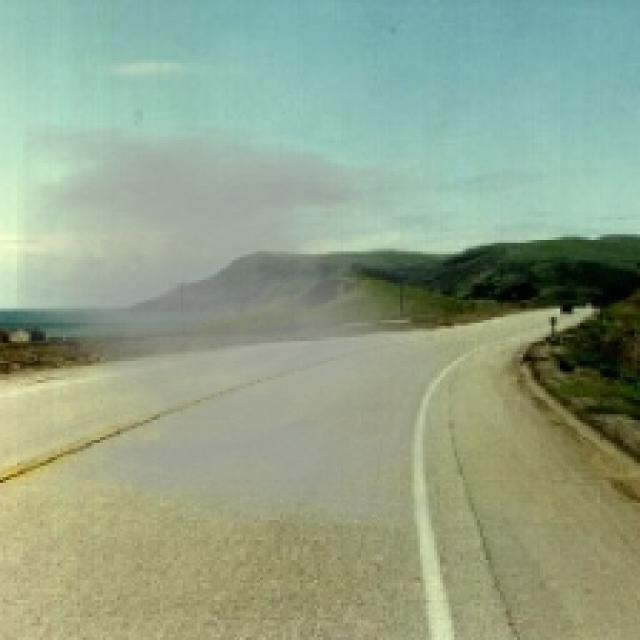smoke: (17, 123, 443, 526)
